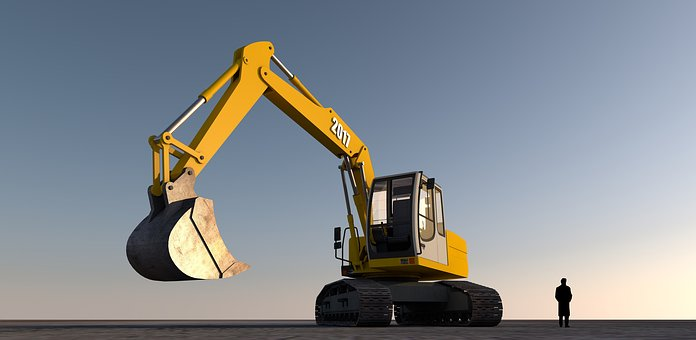excavator: (123, 39, 507, 329)
